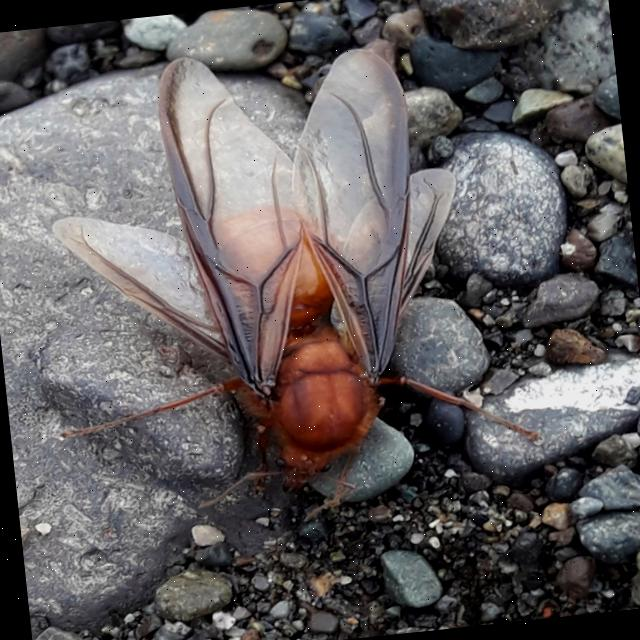Alive-Male-Alate: (20, 23, 549, 547)
